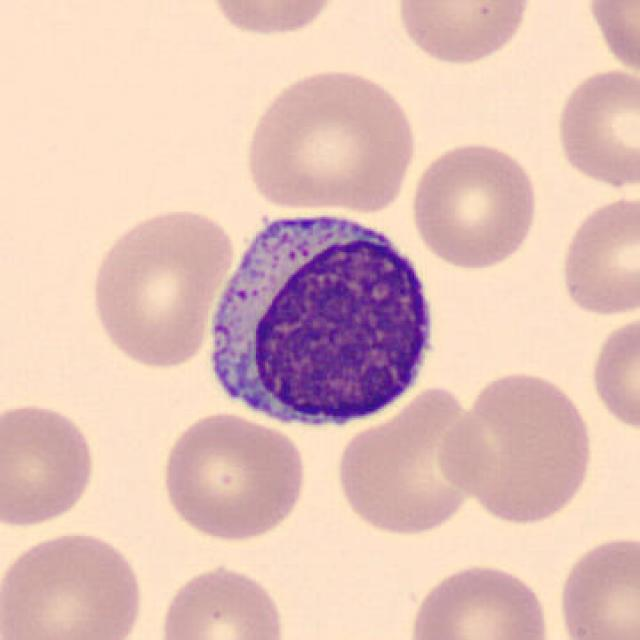Lymphocyte: (196, 197, 446, 439)
RBC: (238, 64, 420, 215), (432, 365, 599, 527), (330, 381, 490, 539), (86, 203, 237, 370), (156, 407, 310, 543), (407, 138, 542, 272), (0, 527, 149, 640), (0, 398, 100, 530), (404, 559, 556, 640), (551, 65, 638, 192), (154, 560, 289, 640), (555, 192, 638, 321), (393, 0, 537, 67), (552, 530, 638, 640), (587, 308, 638, 436), (201, 0, 347, 41), (582, 0, 638, 81)
